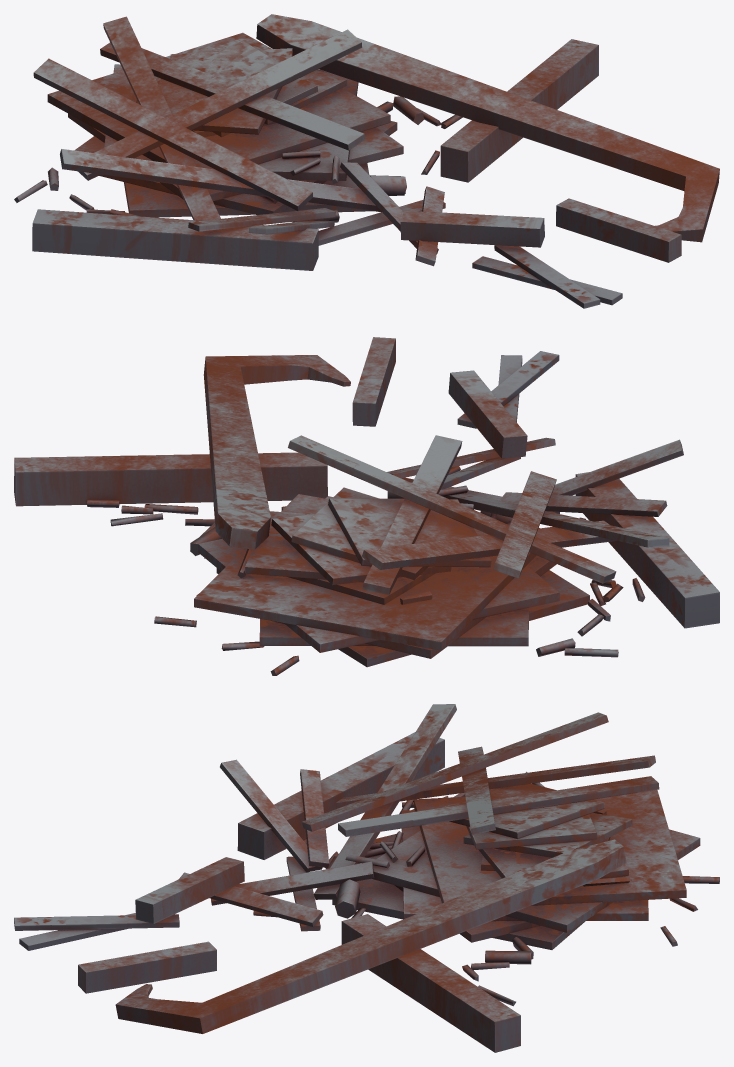
The model's file is Debris.glb.
3 renders of one model, top to bottom at view 1: azimuth 30°, elevation 25°; view 2: azimuth 150°, elevation 25°; view 3: azimuth 270°, elevation 25°, orthographic. The views are drawn at different scales.
Parts seen in each view (by area): view 1: Debris; view 2: Debris; view 3: Debris.
Part boxes in pixels (<box>): Debris: <box>14,14,719,308</box>; Debris: <box>14,337,719,675</box>; Debris: <box>14,704,719,1052</box>.
Size of the model in its own units: 4.11 by 0.7491 by 4.16.
1 material, 1 textured.
